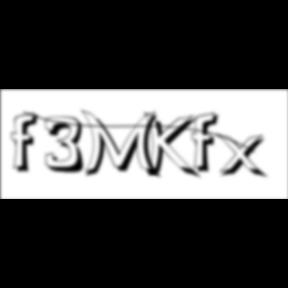3: (45, 116, 91, 176)
K: (144, 110, 202, 182)
M: (80, 108, 164, 181)
f: (12, 111, 44, 175), (192, 111, 224, 175)
x: (216, 132, 272, 181)
